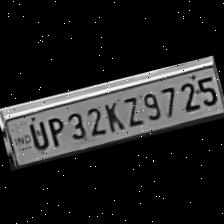2: (172, 76, 200, 114), (80, 100, 106, 138)
3: (60, 105, 87, 142)
5: (190, 70, 220, 108)
7: (155, 81, 180, 117)
9: (136, 86, 162, 122)
K: (98, 96, 124, 133)
P: (42, 111, 68, 148)
U: (22, 115, 50, 151)
Z: (116, 91, 144, 128)
